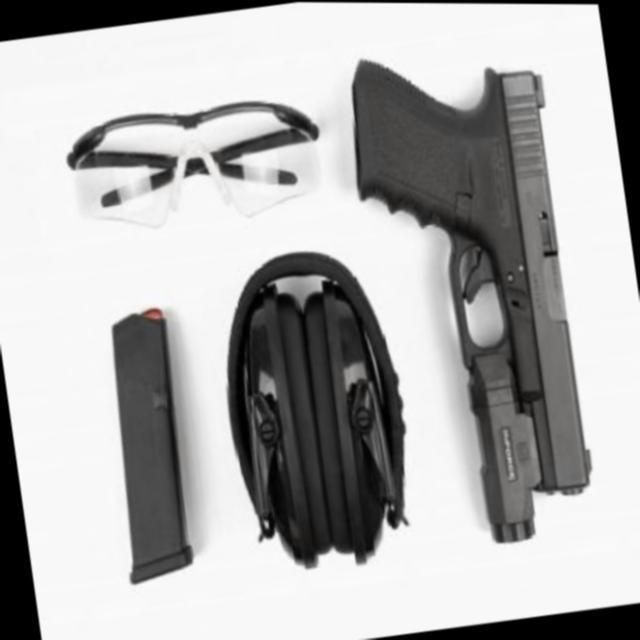weapon: (337, 31, 606, 557), (207, 238, 426, 580), (92, 304, 203, 585)
